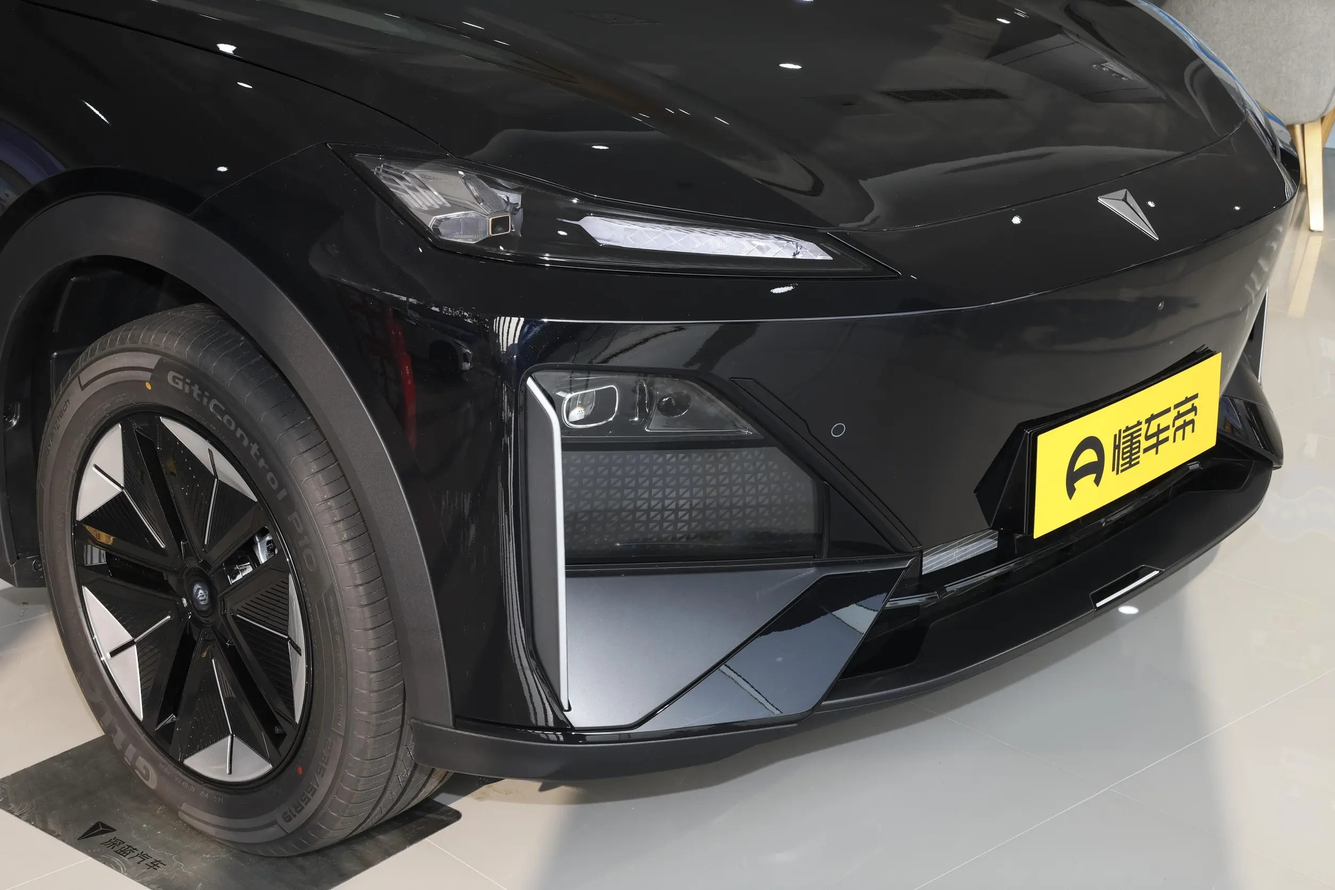Deepal: (1098, 188, 1159, 240)
